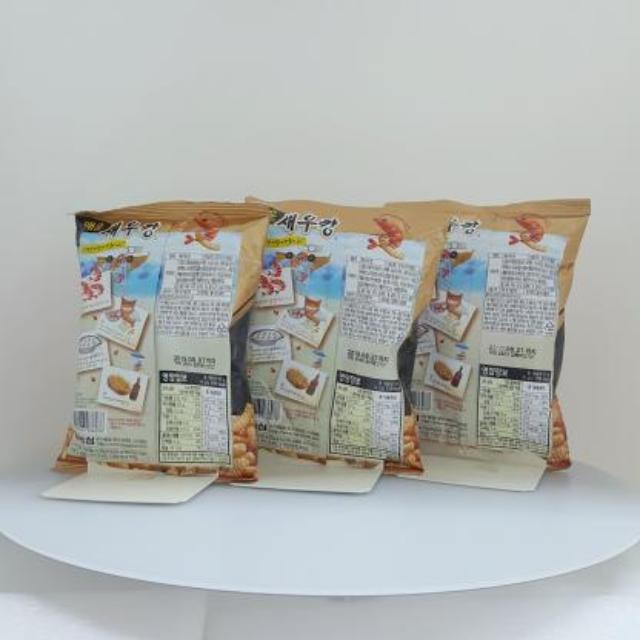snack_bag: (54, 188, 600, 498)
